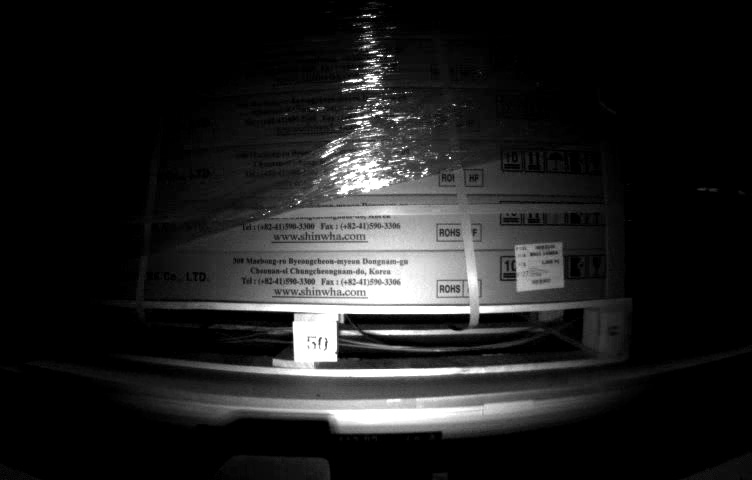True Barcode: (513, 240, 566, 289)
